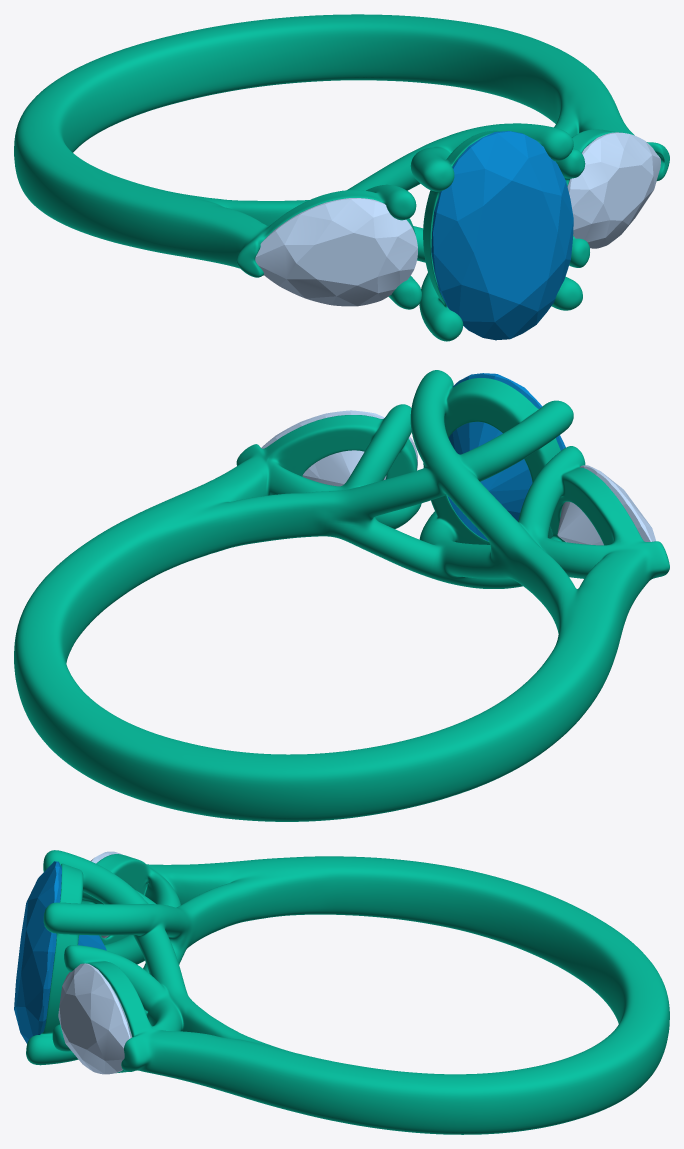
3 views of the same model, one above another, from view 1: azimuth 30°, elevation 25°; view 2: azimuth 150°, elevation 25°; view 3: azimuth 270°, elevation 25° (orthographic). The views are drawn at different scales.
Parts seen in each view (by area): view 1: for render.3dm, Diamond_Oval, Diamond_Pear (×2); view 2: for render.3dm, Diamond_Pear (×2), Diamond_Oval; view 3: for render.3dm, Diamond_Pear, Diamond_Oval.
Part boxes in pixels (x1,y1,x2,y2): for render.3dm: (14,14,669,341); Diamond_Oval: (431,131,573,340); Diamond_Pear (×2): (255,132,660,306); for render.3dm: (14,370,669,821); Diamond_Pear (×2): (261,410,655,545); Diamond_Oval: (447,373,565,540); for render.3dm: (26,850,669,1134); Diamond_Pear: (58,963,132,1074); Diamond_Oval: (14,861,106,1043).
Size of the model in its own units: 2.51 by 0.9119 by 2.98.
